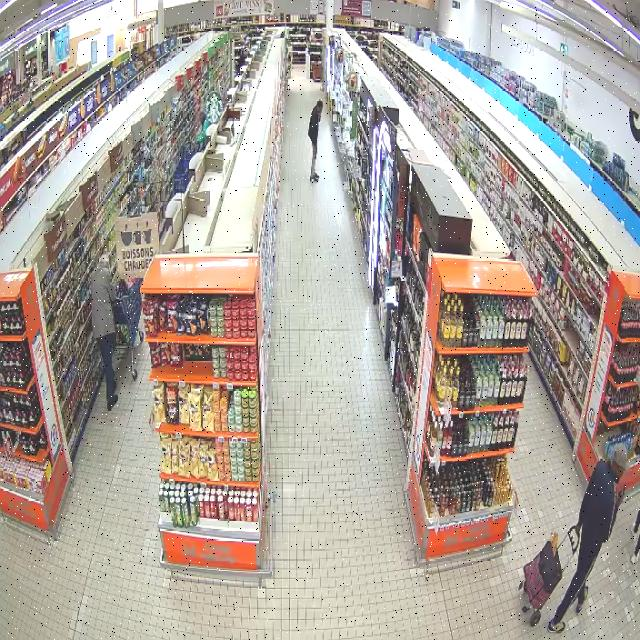article: (314, 150, 317, 160)
hands: (616, 488, 626, 508), (314, 144, 317, 150)
person: (547, 446, 625, 632), (92, 254, 117, 410), (308, 99, 323, 181)
